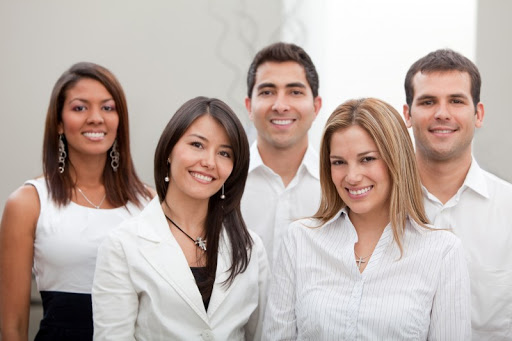bare: (249, 101, 319, 149), (410, 110, 478, 159), (332, 172, 394, 215), (173, 159, 231, 197), (61, 118, 120, 153)
